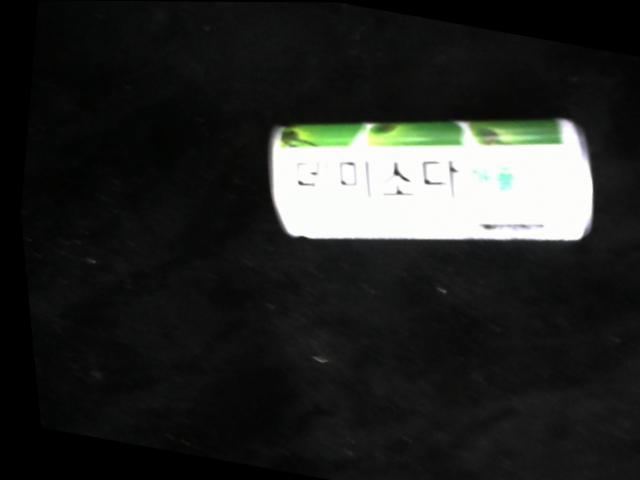can: (260, 114, 591, 241)
